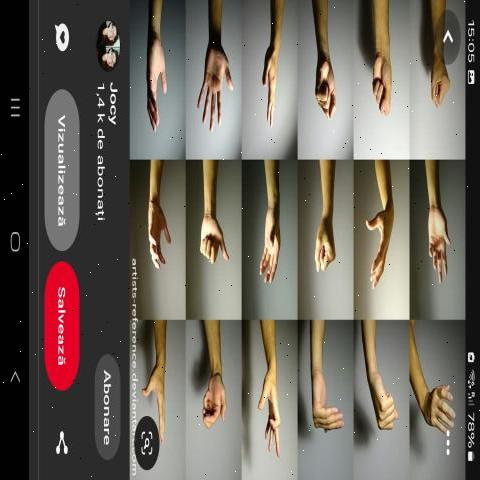Hands: (185, 4, 241, 154), (360, 164, 408, 308), (242, 330, 289, 470), (139, 1, 182, 144), (244, 176, 288, 312), (252, 8, 296, 143), (142, 166, 183, 304), (422, 162, 462, 302), (140, 326, 177, 450), (306, 335, 344, 453), (193, 334, 233, 446)
